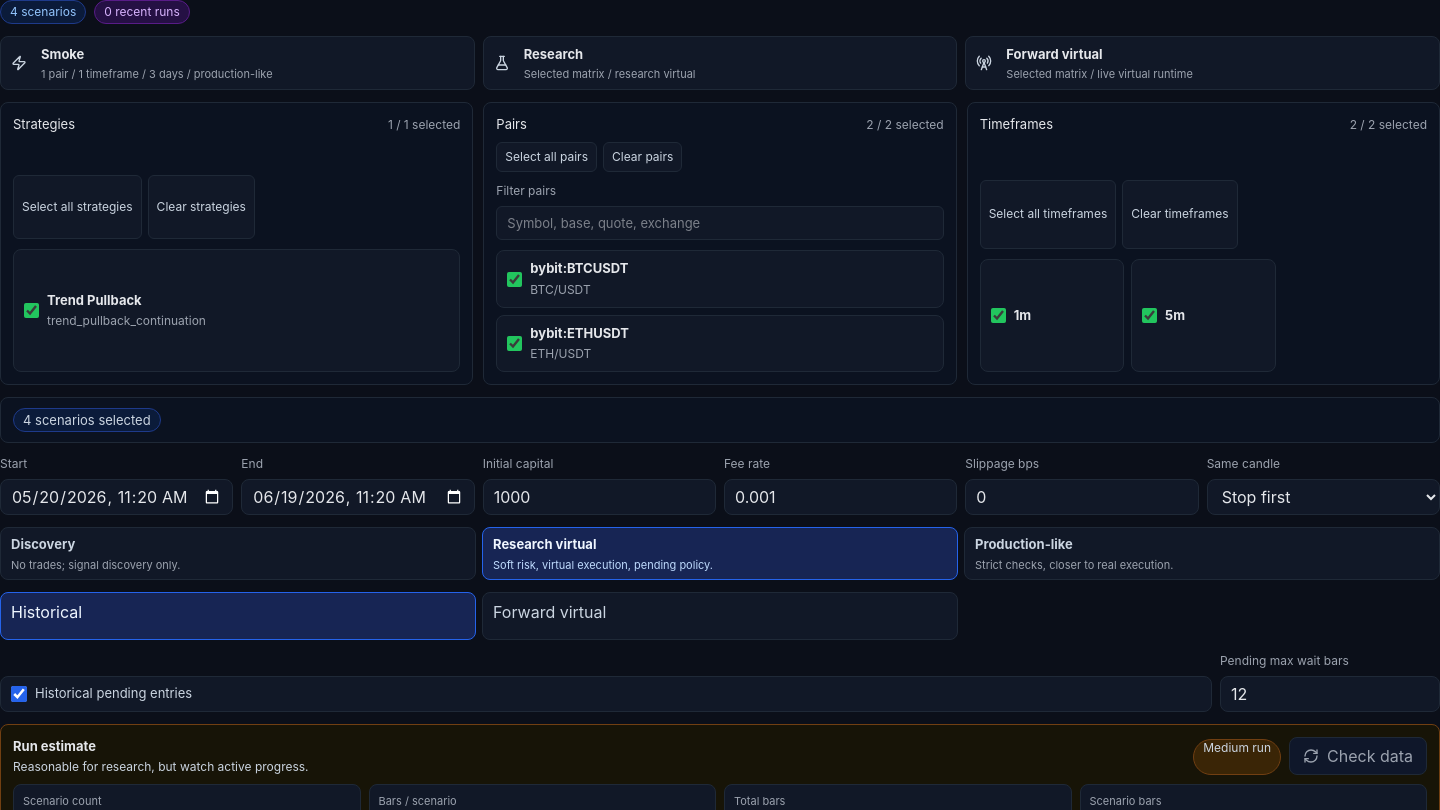
it: StrategyTestingPanel › disables Run with a clear message when any matrix dimension is cleared
Click the button "Clear strategies" at (201, 207), box [148,175,255,238]
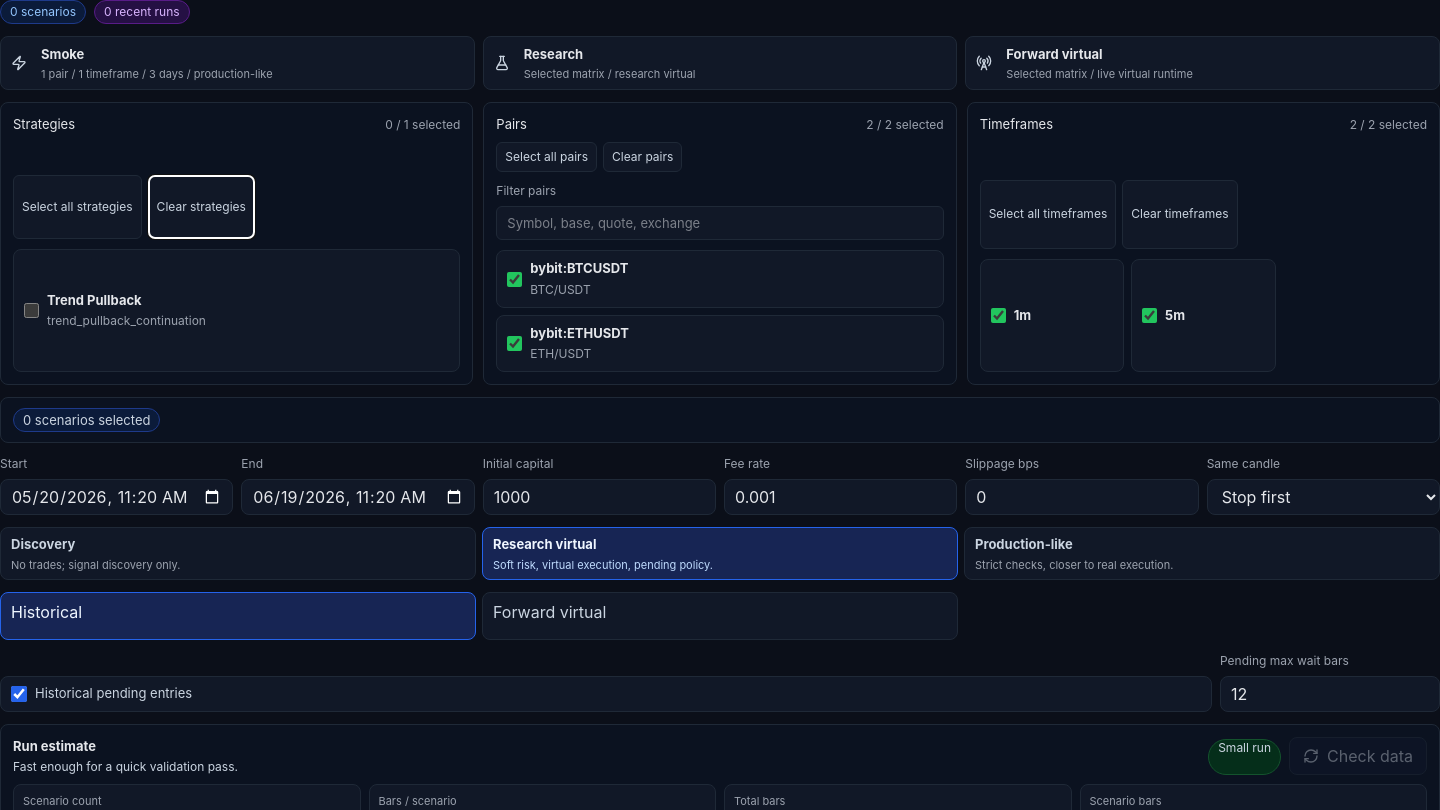
Click the button "Select all strategies" at (77, 207), box [13,175,142,238]
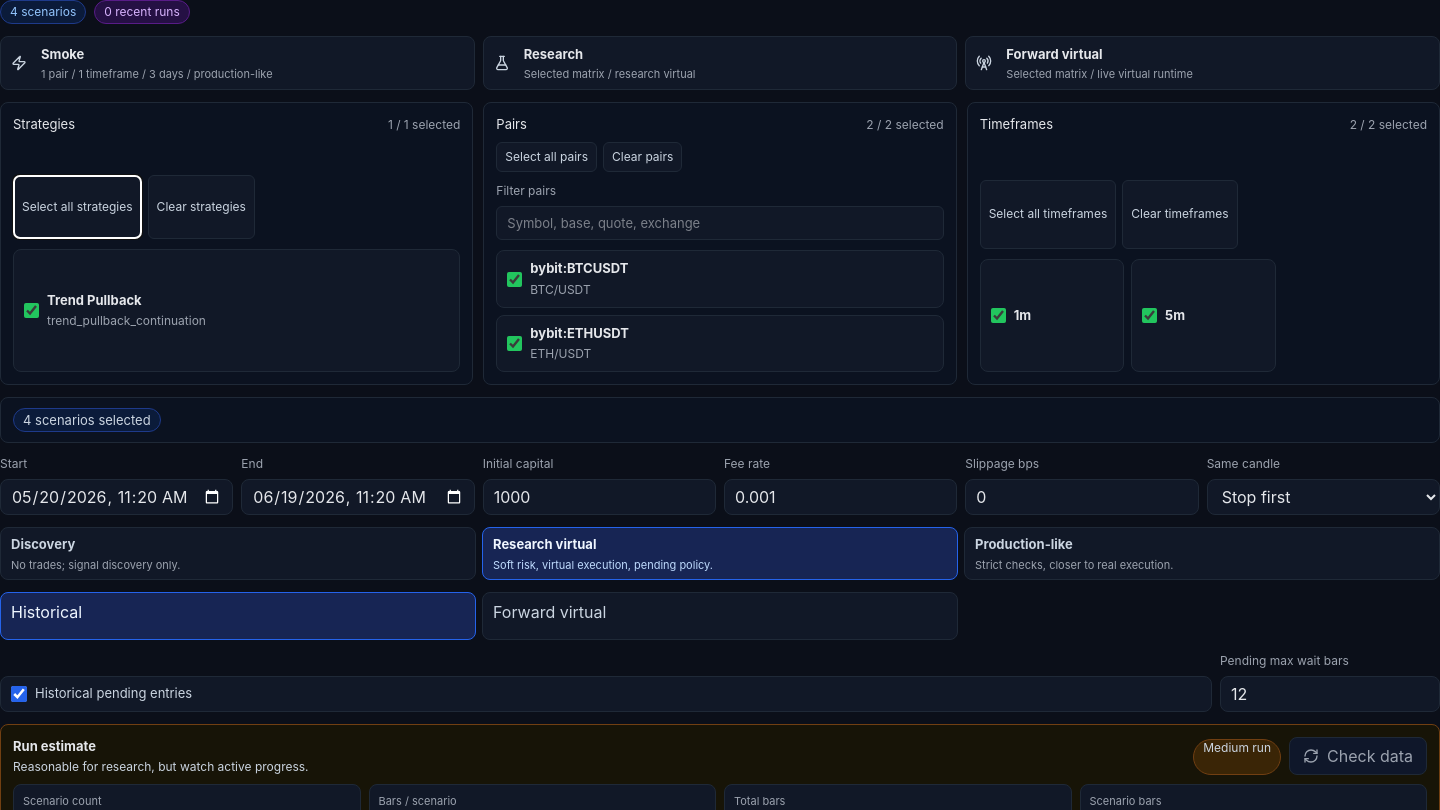
Click the button "Clear pairs" at (643, 157), box [603,142,682,172]
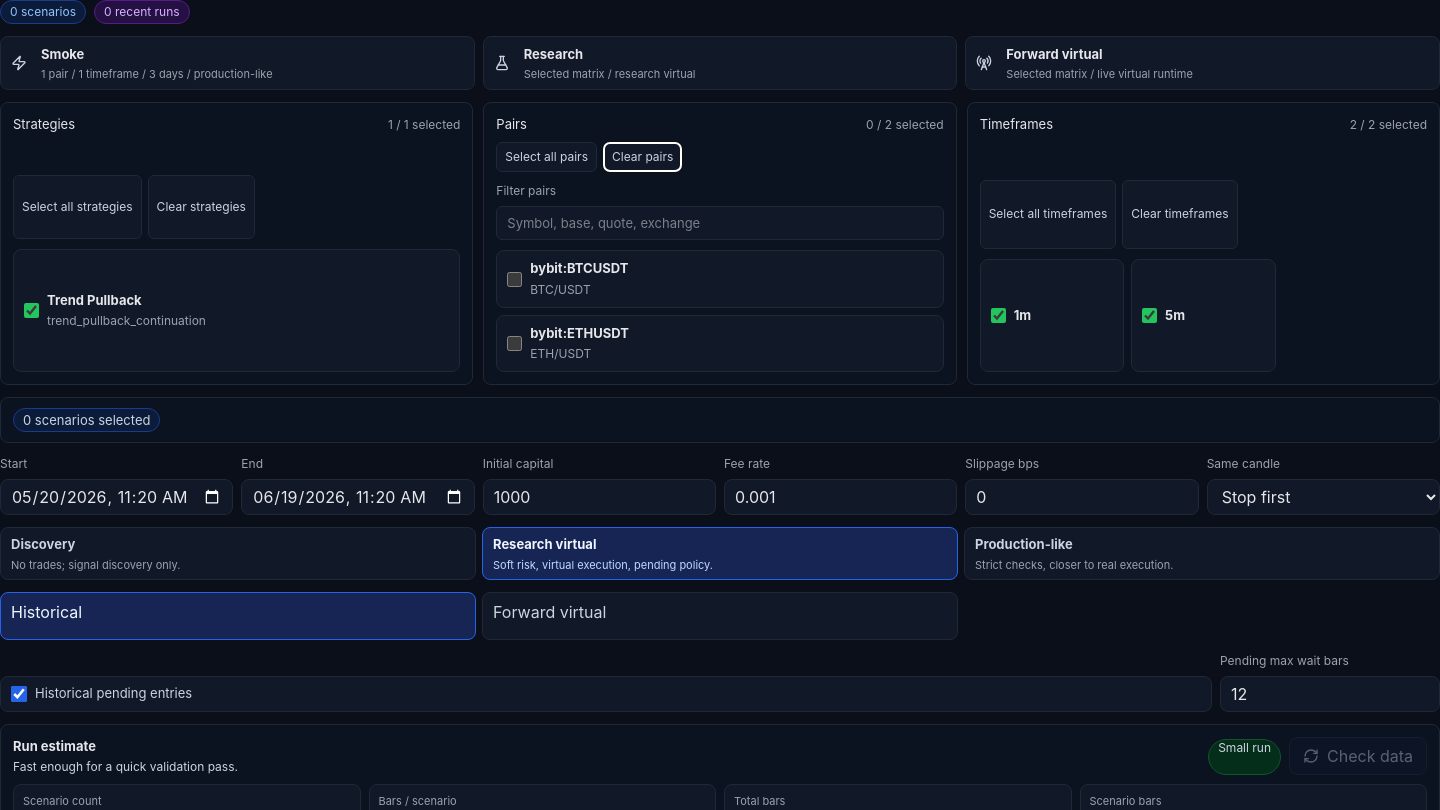
Click the button "Select all pairs" at (547, 157), box [496,142,597,172]
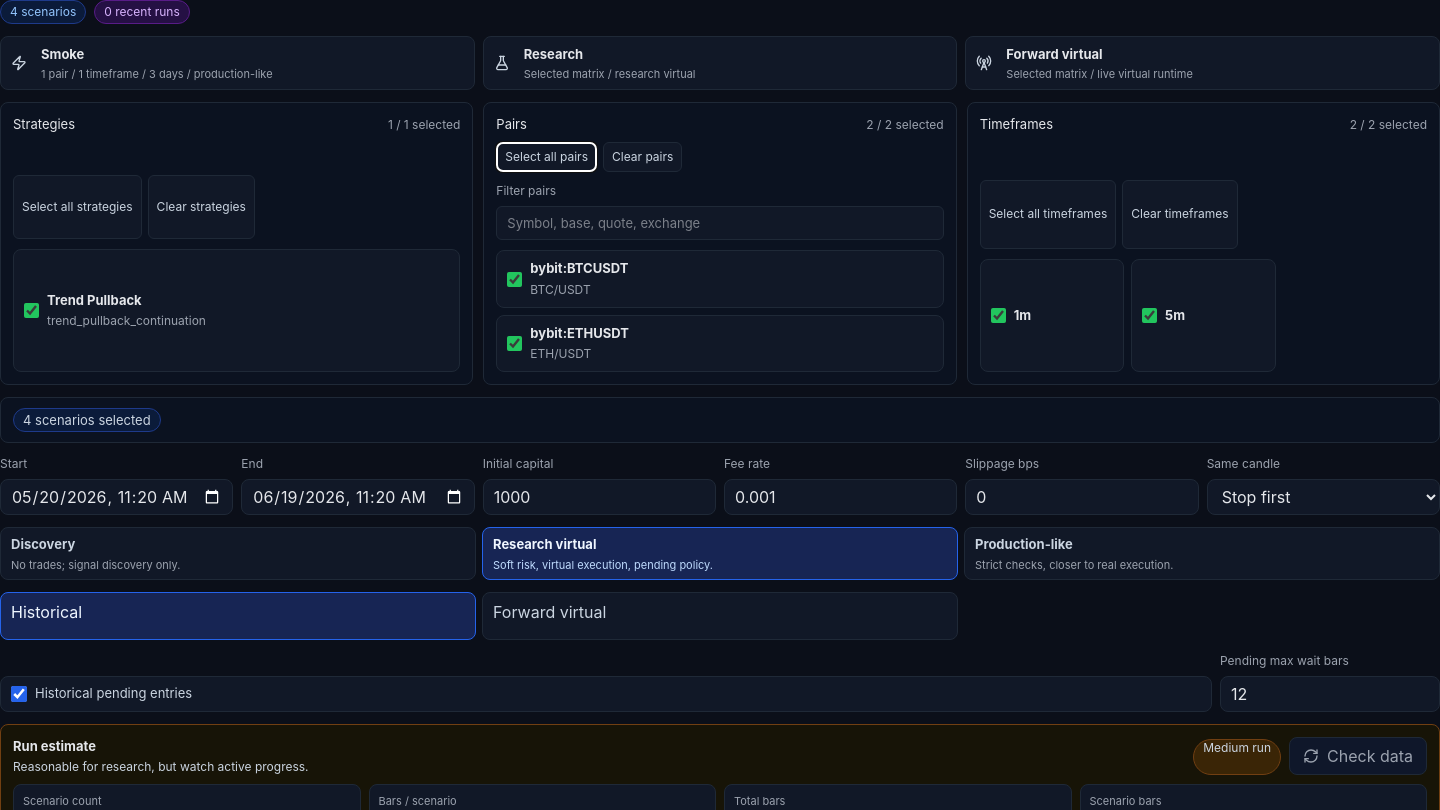
Click the button "Clear timeframes" at (1180, 214), box [1122,180,1238,248]
(page scrolled)
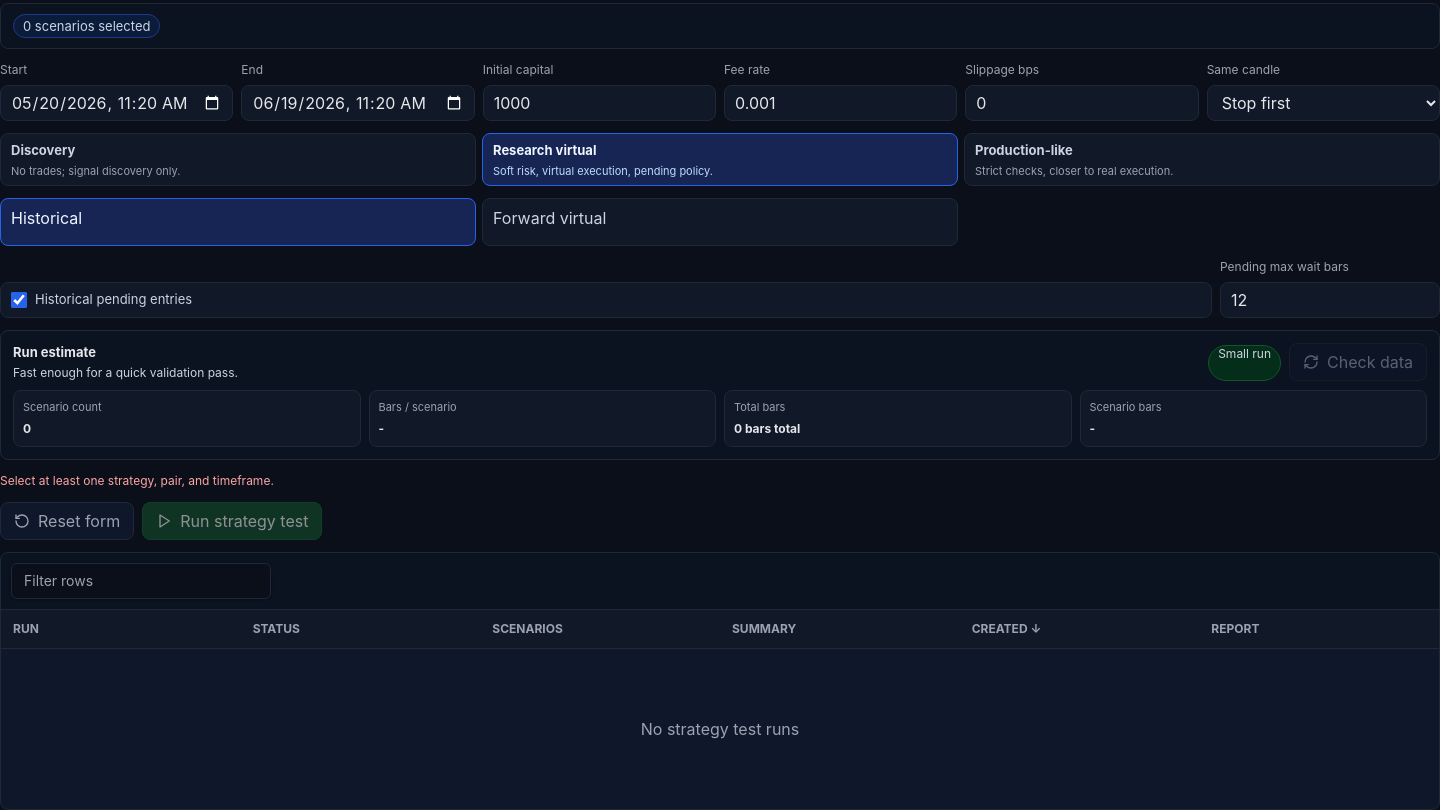
Expected: the button "Run strategy test" is disabled, [142,502,322,540]
Expected: the text "Select at least one strategy, pair, and timeframe." is shown, [0,473,274,488]
